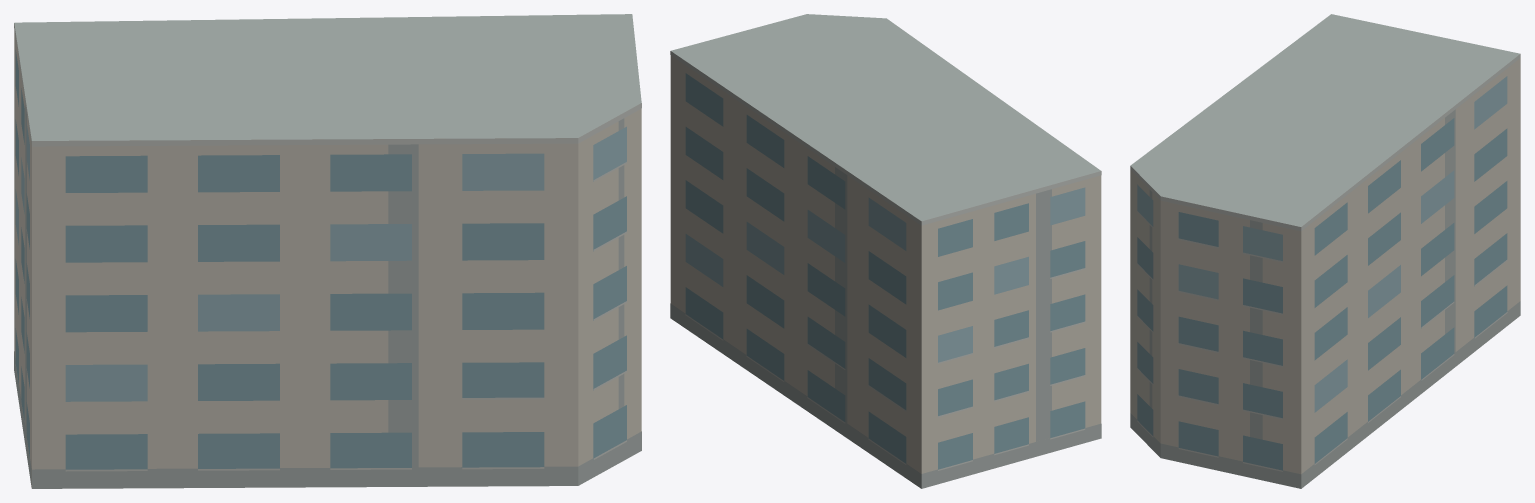
File: survey-upis-32792607.glb
3 renders of one model, left to right at view 1: azimuth 30°, elevation 25°; view 2: azimuth 150°, elevation 25°; view 3: azimuth 270°, elevation 25°, orthographic. The views are drawn at different scales.
Visible parts, largest first — view 1: survey-upis-32792607.tmp; view 2: survey-upis-32792607.tmp; view 3: survey-upis-32792607.tmp.
Boxes of the visible parts, x1=… form: survey-upis-32792607.tmp: x1=14, y1=14, x2=641, y2=488; survey-upis-32792607.tmp: x1=670, y1=14, x2=1101, y2=488; survey-upis-32792607.tmp: x1=1130, y1=14, x2=1520, y2=488.
Bounding box in the file's own units: 26.64 × 15.25 × 20.61.
